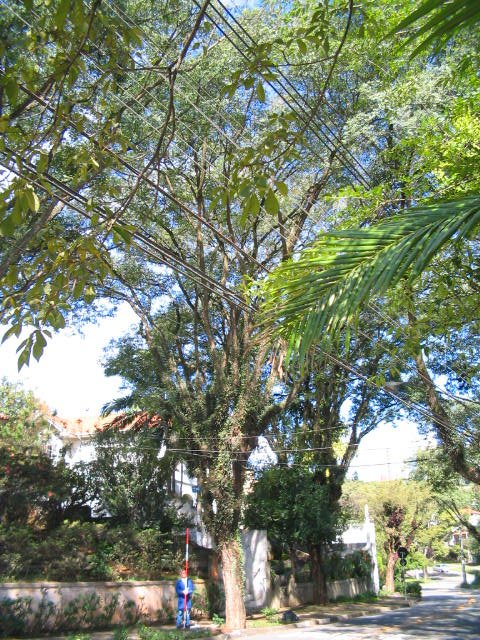stem: (197, 525, 261, 633)
stick: (179, 525, 193, 632)
